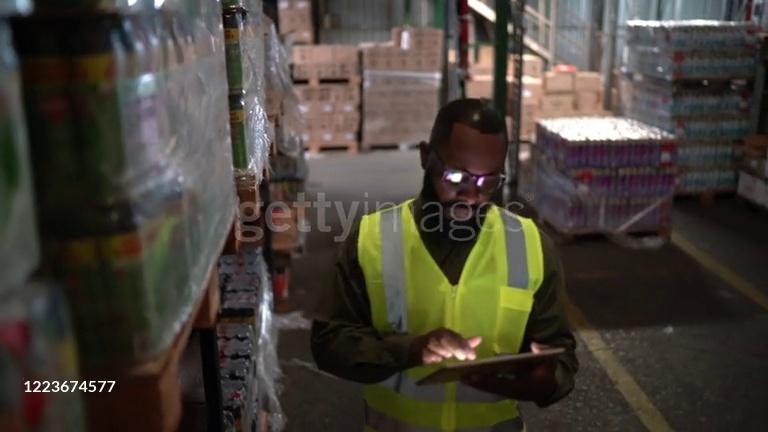person: (309, 99, 580, 432)
